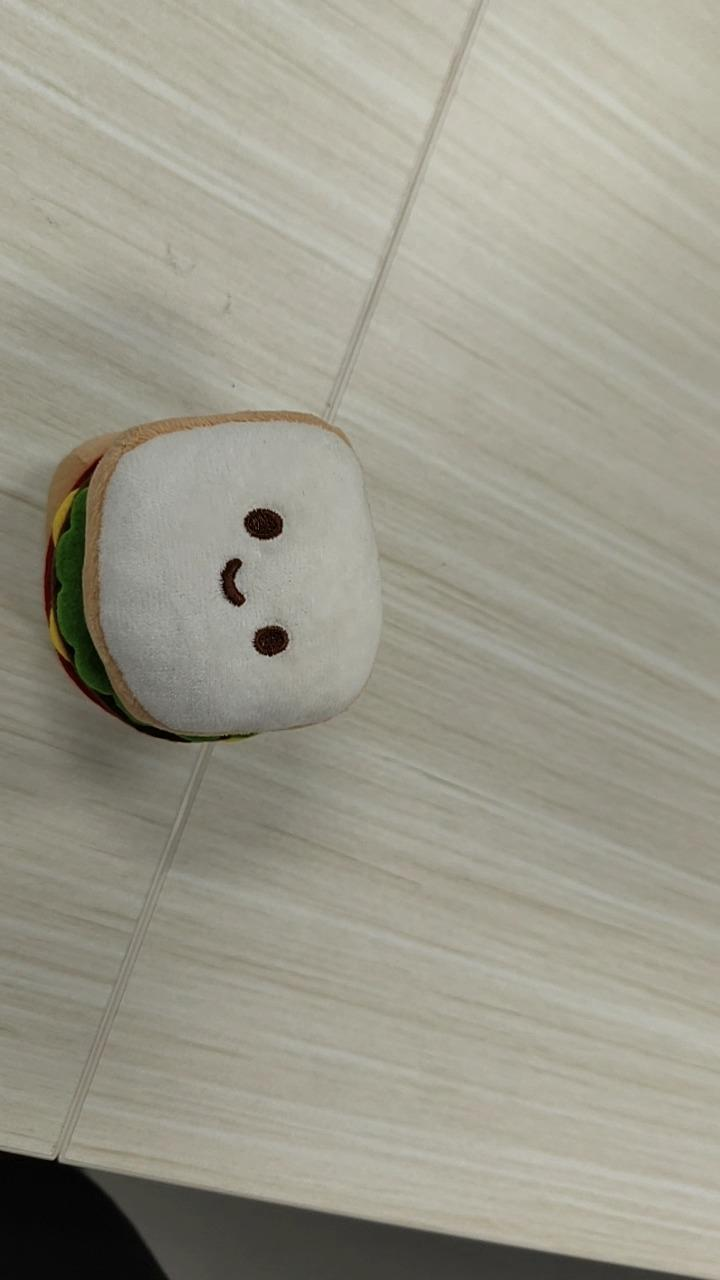objects: (42, 407, 383, 744)
